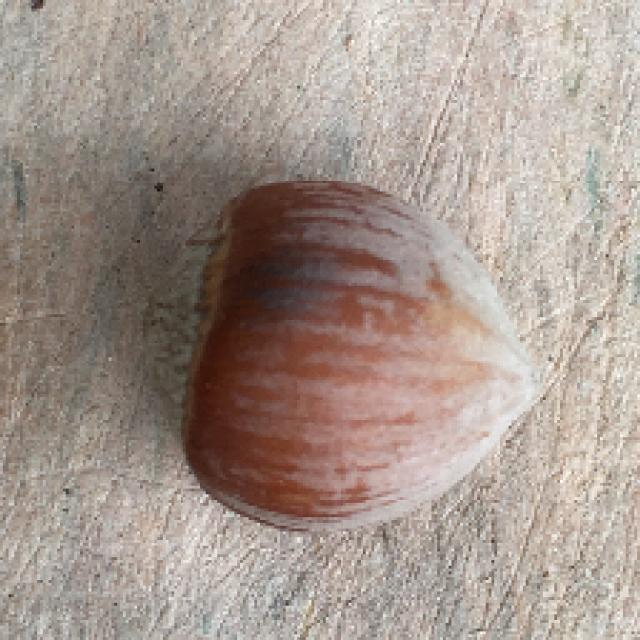qualityHazelnut: (189, 165, 558, 556)
